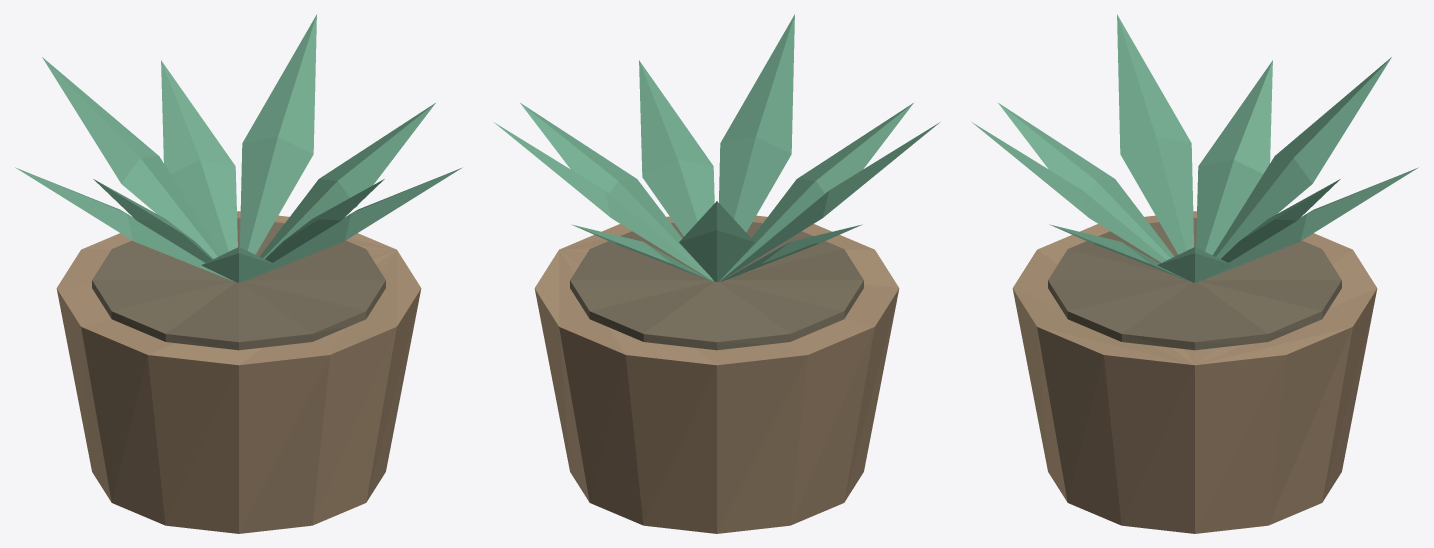
File: pot.glb
The picture shows the model from 3 angles, left to right: view 1: azimuth 30°, elevation 25°; view 2: azimuth 150°, elevation 25°; view 3: azimuth 270°, elevation 25°; orthographic projection.
Visible parts, largest first — view 1: pot, soil, leaf_1, leaf_2, leaf_3, leaf_0, leaf_4, leaf_8, leaf_5, leaf_7, leaf_6; view 2: pot, soil, leaf_7, leaf_8, leaf_0, leaf_6, leaf_3, leaf_1, leaf_5, leaf_2, leaf_4; view 3: pot, soil, leaf_5, leaf_4, leaf_3, leaf_6, leaf_2, leaf_7, leaf_1, leaf_0, leaf_8.
Part boxes in pixels (x1,y1,x2,y2): pot: [56, 211, 421, 533]; soil: [92, 218, 385, 350]; leaf_1: [240, 14, 316, 254]; leaf_2: [161, 60, 237, 254]; leaf_3: [42, 57, 220, 258]; leaf_0: [259, 103, 435, 258]; leaf_4: [15, 167, 233, 281]; leaf_8: [244, 167, 462, 281]; leaf_5: [93, 179, 212, 262]; leaf_7: [265, 179, 384, 262]; leaf_6: [201, 247, 276, 282]; pot: [534, 215, 899, 533]; soil: [570, 222, 863, 350]; leaf_7: [719, 14, 794, 232]; leaf_8: [639, 60, 714, 236]; leaf_0: [520, 103, 712, 279]; leaf_6: [721, 103, 913, 279]; leaf_3: [679, 201, 754, 281]; leaf_1: [494, 122, 712, 280]; leaf_5: [721, 122, 939, 280]; leaf_2: [571, 224, 714, 282]; leaf_4: [719, 224, 862, 282]; pot: [1012, 211, 1377, 533]; soil: [1048, 218, 1341, 350]; leaf_5: [1117, 14, 1193, 254]; leaf_4: [1196, 60, 1272, 254]; leaf_3: [1213, 57, 1391, 258]; leaf_6: [998, 103, 1174, 259]; leaf_2: [1200, 167, 1418, 281]; leaf_7: [972, 122, 1166, 262]; leaf_1: [1221, 179, 1340, 262]; leaf_0: [1157, 247, 1232, 282]; leaf_8: [1049, 224, 1190, 281].
Bounding box in the file's own units: 0.8729 × 0.8 × 0.8863.
